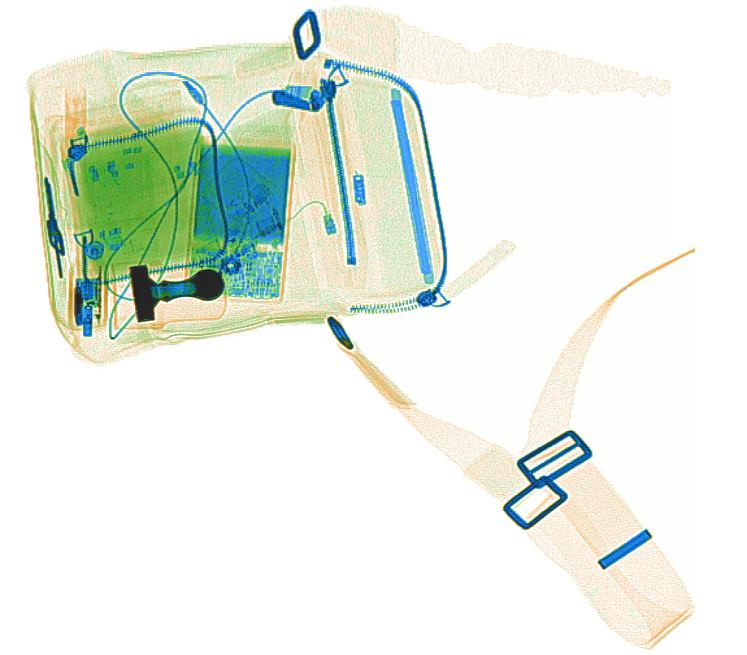seal: (126, 264, 226, 324)
